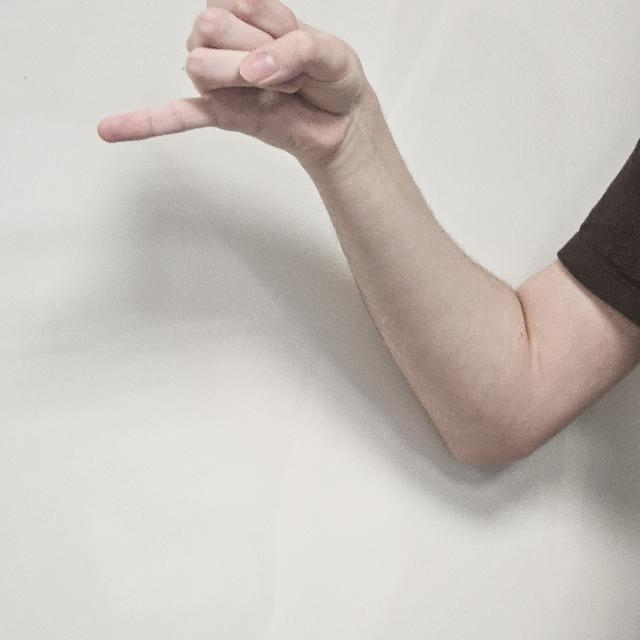Esquerda: (94, 3, 376, 203)
